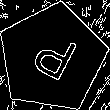P_SW: (24, 27, 80, 89)
